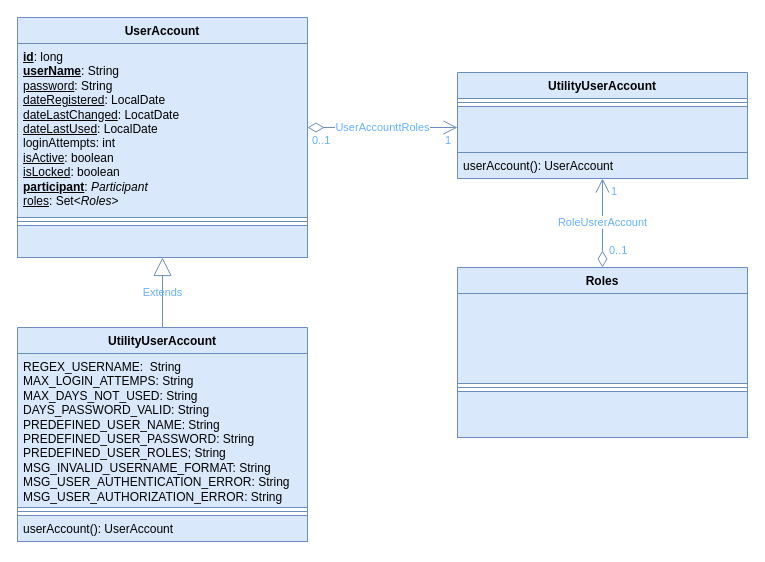
The diagram is 765 pixels wide and 562 high, and some of its shapes have lost their labels. Here are the shapes that lost their labels. From the top down, the centre of each, then its label:
At (602,129): "userId: long role: Roles".
At (162,241): "toString(): String".
At (602,338): "Admin Moderator User Support".
At (602,414): "getDefaultSetting() toString()".
